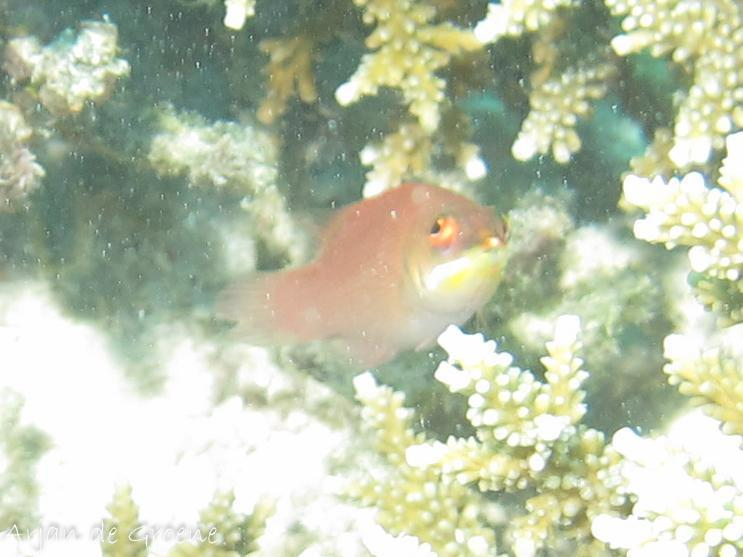Fish: (200, 184, 522, 375)
